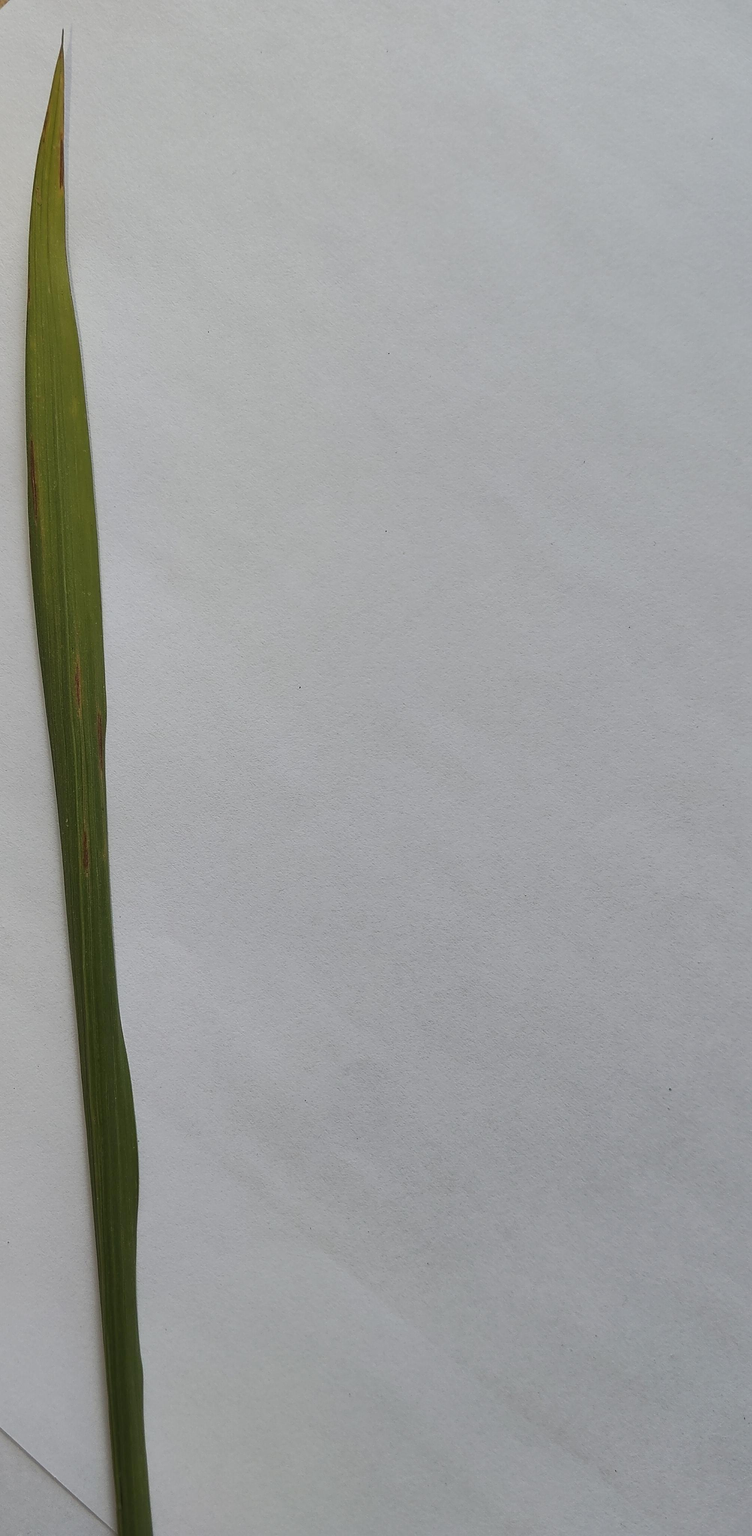NBS: (31, 441, 37, 520), (41, 102, 51, 143), (97, 713, 102, 772), (60, 136, 65, 189), (75, 667, 80, 705), (83, 831, 88, 869)
